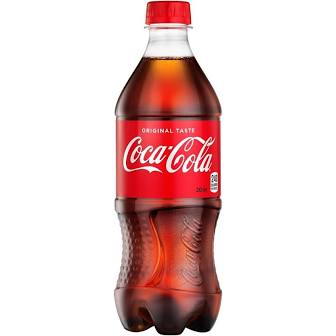HDPE Cap: (145, 1, 191, 24)
PET Bottle: (113, 1, 222, 335)
PVC Label: (115, 119, 220, 199)
